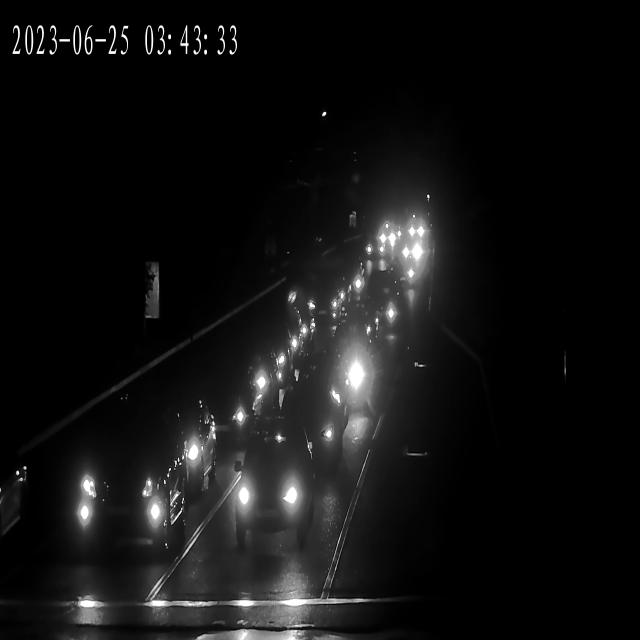Car: (61, 420, 178, 533), (232, 450, 311, 550), (278, 372, 344, 470), (177, 377, 260, 446), (316, 336, 375, 421), (0, 439, 38, 563), (262, 312, 306, 380), (237, 348, 280, 417), (288, 274, 346, 320), (358, 290, 402, 332), (330, 264, 371, 301), (393, 256, 421, 279), (397, 240, 426, 261), (364, 232, 386, 258), (382, 216, 400, 242), (405, 217, 425, 240)
